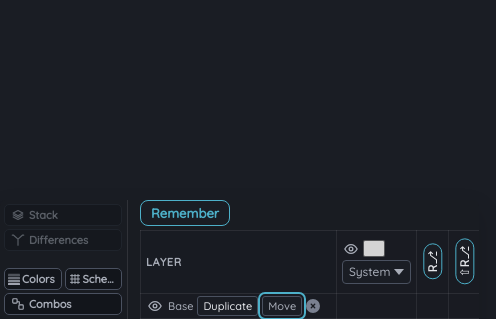
it: layer row operations › announces the fixed base restriction but permits duplication of zero
This screenshot has width=496, height=319.
Click the button "Move".
click(282, 306)  # box x1=262 y1=296 x2=302 y2=316
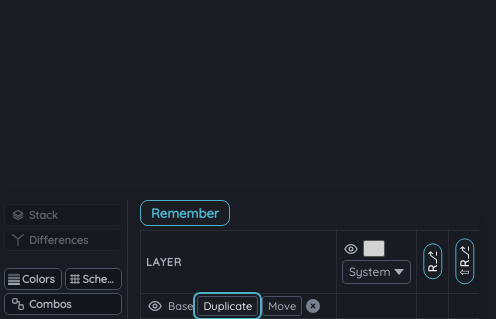
Click the button "Duplicate".
click(228, 306)  # box x1=198 y1=296 x2=258 y2=316
(page scrolled)
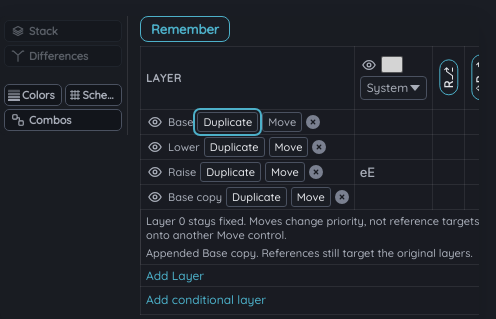
Expected: the button "Base copy" is shown, x1=168 y1=190 x2=222 y2=204
